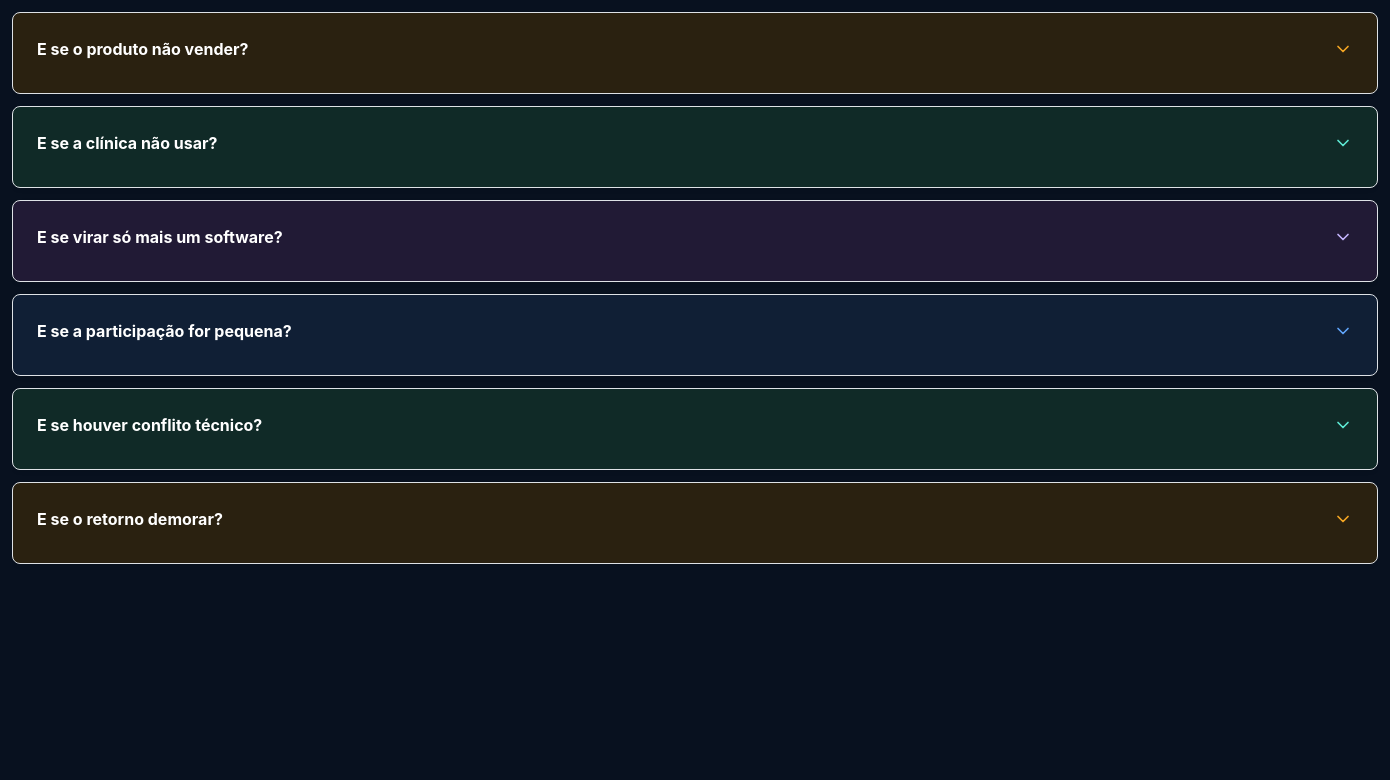
Scenario: ObjectionAccordion › Single-item expansion behavior › should expand an item when clicked
Click the button "E se o produto não vender?". click: (143, 49)
box: [13,13,1377,85]
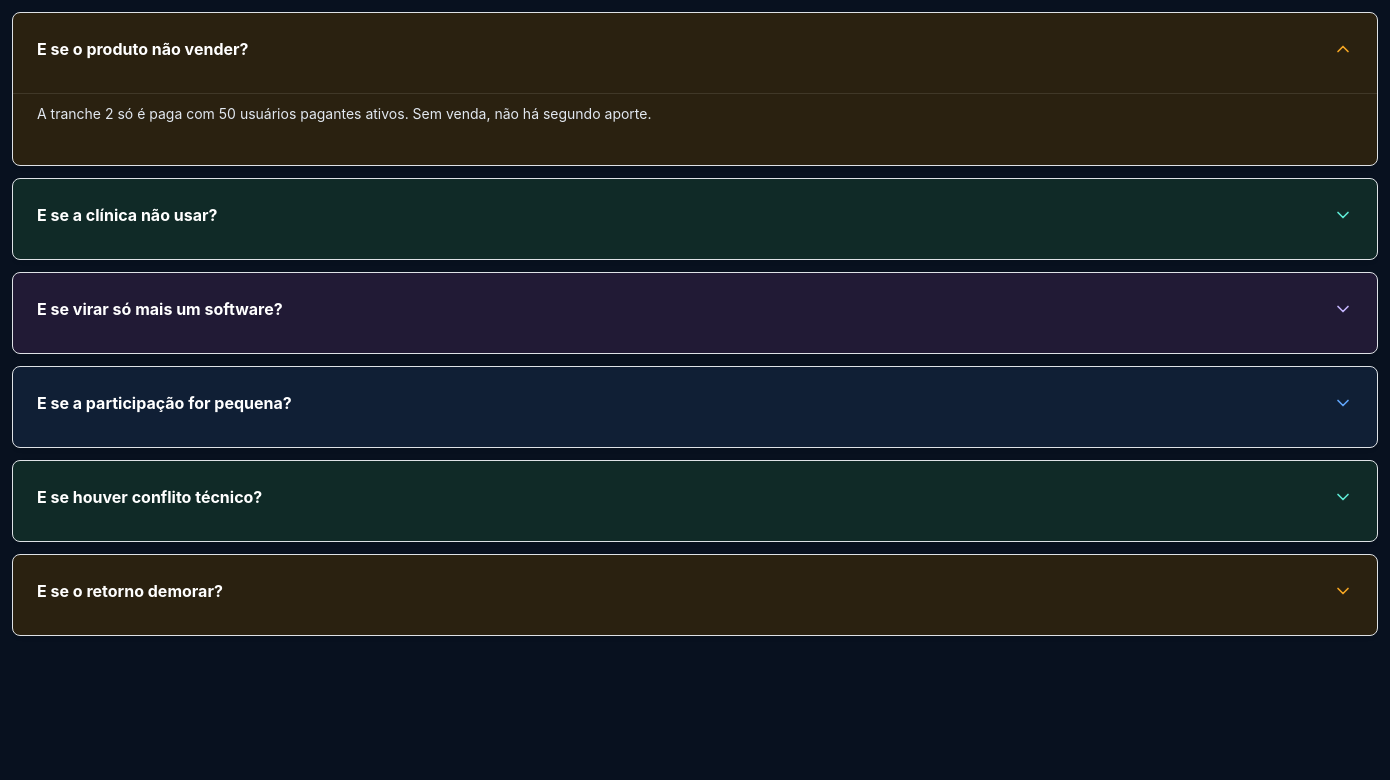
Result: the button "E se o produto não vender?" is expanded at [13,13,1377,85]
Result: the text "A tranche 2 só é paga com 50 usuários pagantes ativos. Sem venda, não há segundo aporte." is shown at [37,105,652,122]
